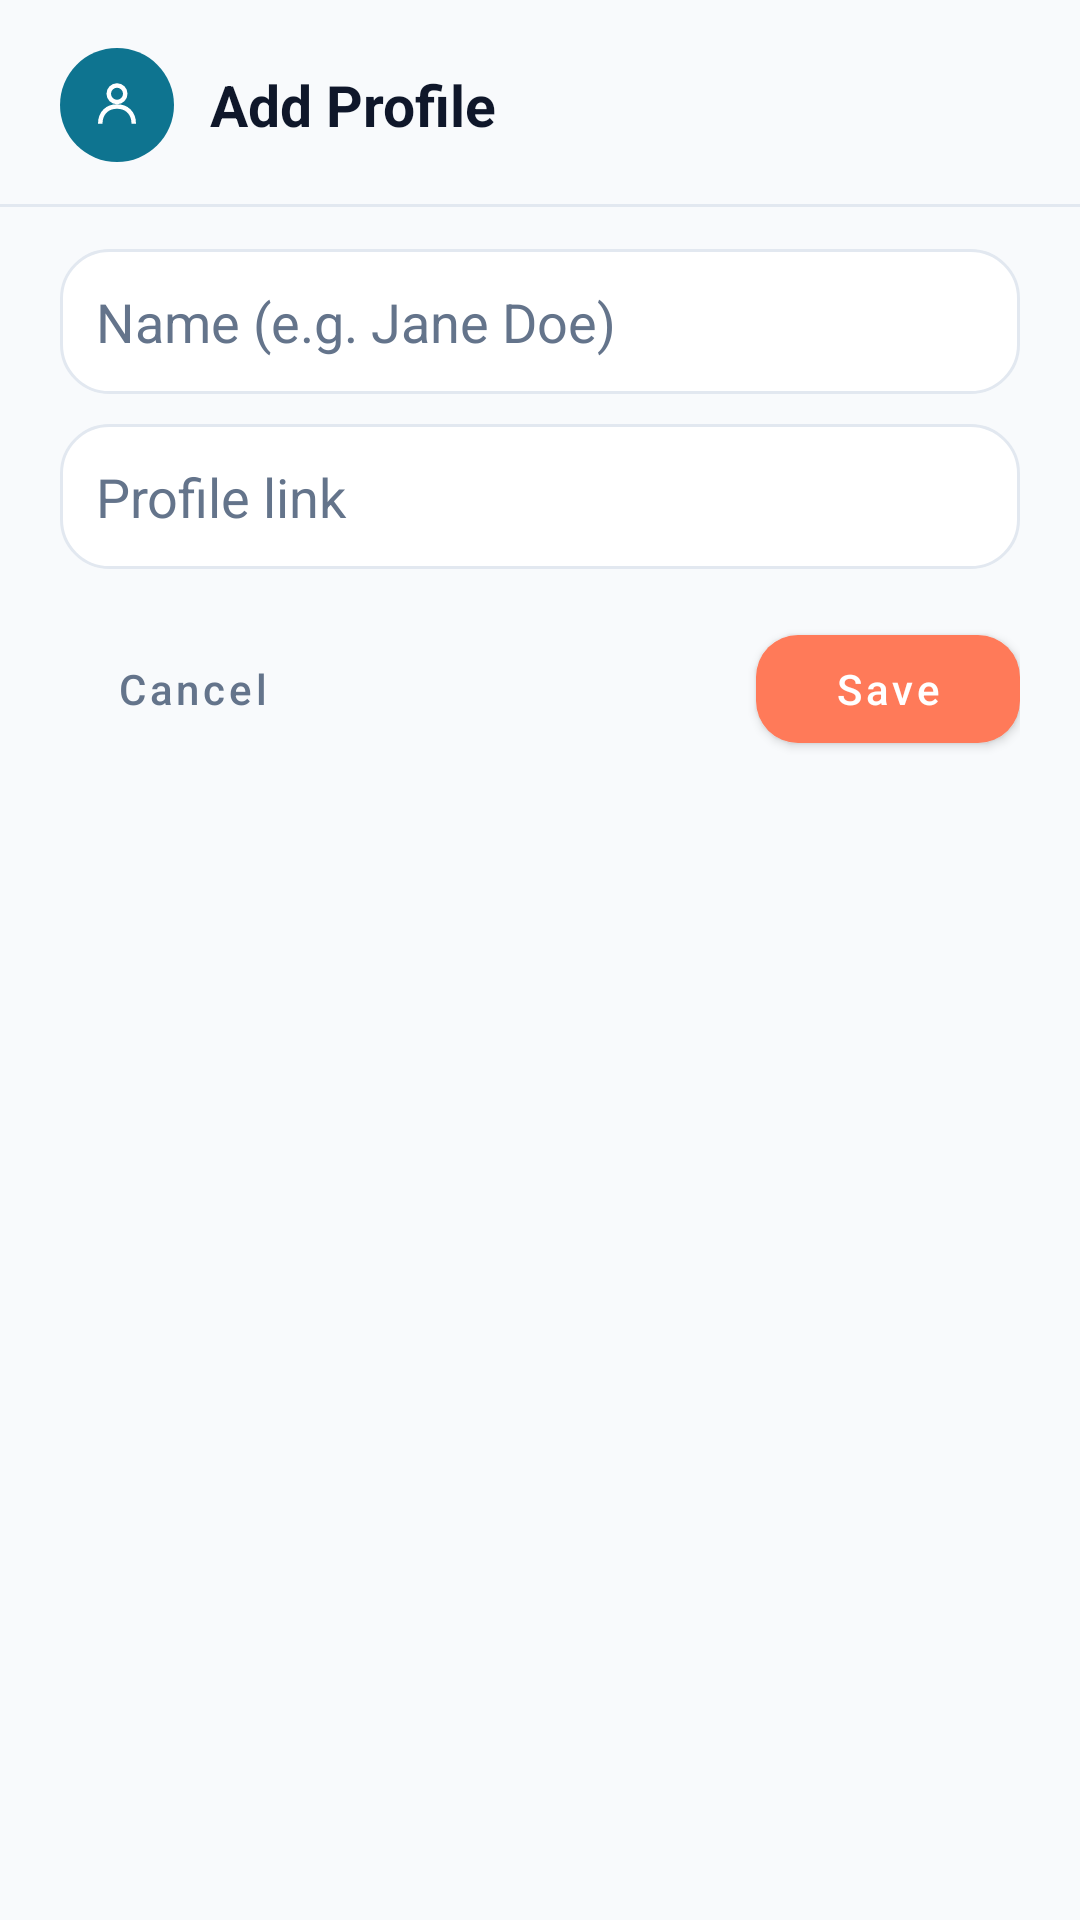

Named icons in this screenshot (1080×1920) and their bounding boxes, [x1=x1, y1=y1, x2=x2, y2=y2]:
tracked profiles: [x1=98, y1=83, x2=136, y2=124]
